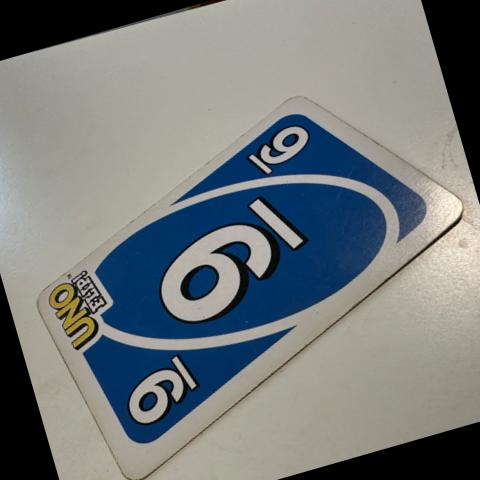lblue-9: (98, 342, 211, 434)
